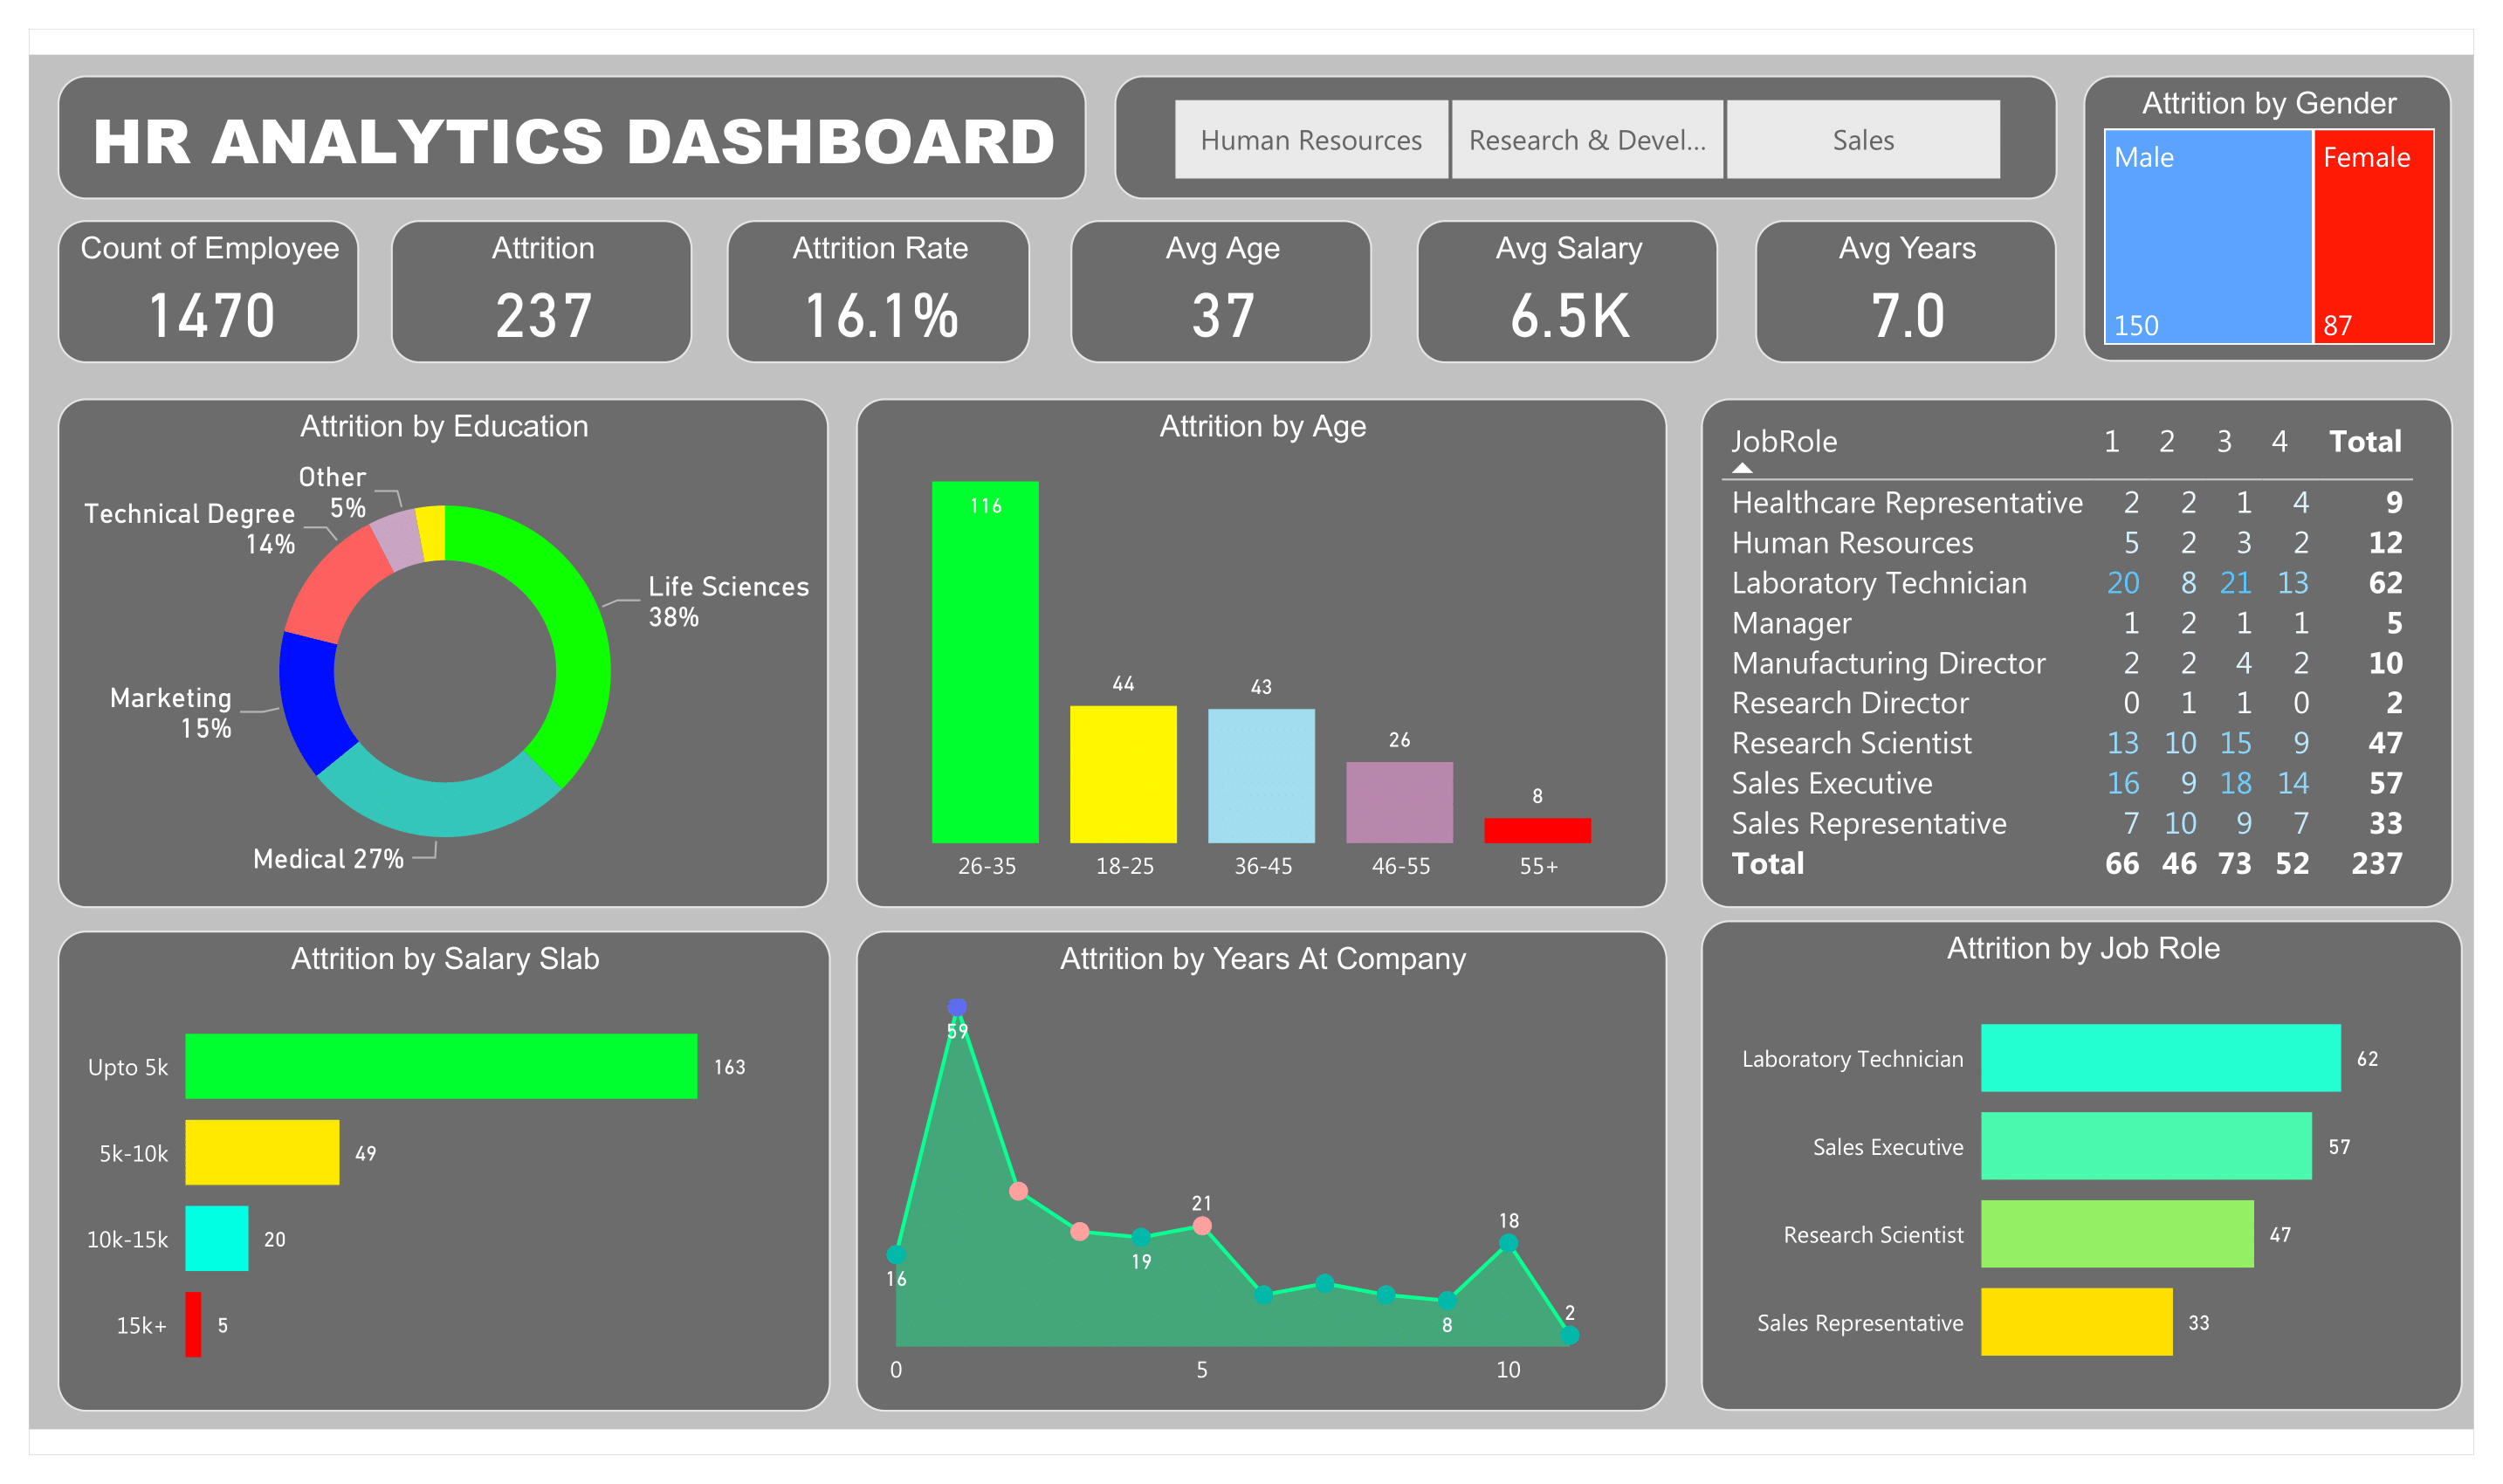

The dashboard page shown, as its layout file describes it:
{"tool":"powerbi","page":{"name":"Page 1","canvas":[1280,720],"ordinal":0},"visuals":[{"type":"card","title":"Count of Employee","fields":{"Values":["CountNonNull(HR_Analytics.EmpID)"]},"box":[15.5,86.1,158.1,74.8],"z":0},{"type":"textbox","box":[15.5,11.3,539.1,64.9],"z":15},{"type":"treemap","title":"Attrition by Gender","fields":{"Values":["Sum(HR_Analytics.AttritionCount)"],"Group":["HR_Analytics.Gender"]},"box":[1075.4,11.3,193.3,149.6],"z":1000},{"type":"slicer","fields":{"Values":["HR_Analytics.Department"]},"box":[568.7,11.3,493.9,64.9],"z":2000},{"type":"pivotTable","fields":{"Rows":["HR_Analytics.JobRole"],"Columns":["HR_Analytics.JobSatisfaction"],"Values":["Sum(HR_Analytics.AttritionCount)"]},"box":[875.6,180,392.5,268],"z":3000},{"type":"donutChart","title":"Attrition by Education","fields":{"Category":["HR_Analytics.EducationField"],"Y":["Sum(HR_Analytics.AttritionCount)"]},"box":[15.5,180.6,403.6,266.7],"z":4000},{"type":"card","title":"Attrition","fields":{"Values":["Sum(HR_Analytics.AttritionCount)"]},"box":[189.1,86.1,158.1,74.8],"z":5000},{"type":"card","title":"Attrition Rate","fields":{"Values":["HR_Analytics.AttritionRate"]},"box":[365.5,86.1,159.5,74.8],"z":6000},{"type":"card","title":"Avg Age","fields":{"Values":["Avg(HR_Analytics.Age)"]},"box":[544.7,86.1,158.1,74.8],"z":7000},{"type":"card","title":"Avg Years","fields":{"Values":["Avg(HR_Analytics.YearsAtCompany)"]},"box":[904.6,86.1,158.1,74.8],"z":8000},{"type":"card","title":"Avg Salary","fields":{"Values":["Avg(HR_Analytics.MonthlyIncome)"]},"box":[726.8,86.1,158.1,74.8],"z":9000},{"type":"columnChart","title":"Attrition by Age","fields":{"Category":["HR_Analytics.AgeGroup"],"Y":["Sum(HR_Analytics.AttritionCount)"]},"box":[433.3,180.6,424.8,266.7],"z":10000},{"type":"barChart","title":"Attrition by Salary Slab","fields":{"Category":["HR_Analytics.SalarySlab"],"Y":["Sum(HR_Analytics.AttritionCount)"]},"box":[14.9,458.8,404.7,251.7],"z":11000},{"type":"barChart","title":"Attrition by Job Role","fields":{"Category":["HR_Analytics.JobRole"],"Y":["Sum(HR_Analytics.AttritionCount)"]},"box":[875,453,399.4,256.8],"z":12000},{"type":"areaChart","title":"Attrition by Years At Company","fields":{"Category":["HR_Analytics.YearsAtCompany"],"Y":["Sum(HR_Analytics.AttritionCount)"]},"box":[433.1,458.8,425,251.7],"z":13000}]}

Visuals, with their boxes in screenshot pixels (x1, y1, x2, y2):
"Count of Employee" card: <bbox>43, 211, 347, 356</bbox>
textbox: <bbox>43, 67, 1083, 193</bbox>
"Attrition by Gender" treemap: <bbox>2087, 67, 2459, 356</bbox>
slicer - HR_Analytics.Department: <bbox>1110, 67, 2062, 193</bbox>
pivotTable - HR_Analytics.JobRole x HR_Analytics.JobSatisfaction: <bbox>1702, 393, 2458, 910</bbox>
"Attrition by Education" donutChart: <bbox>43, 394, 822, 908</bbox>
"Attrition" card: <bbox>378, 211, 683, 356</bbox>
"Attrition Rate" card: <bbox>718, 211, 1026, 356</bbox>
"Avg Age" card: <bbox>1063, 211, 1368, 356</bbox>
"Avg Years" card: <bbox>1757, 211, 2062, 356</bbox>
"Avg Salary" card: <bbox>1414, 211, 1720, 356</bbox>
"Attrition by Age" columnChart: <bbox>849, 394, 1668, 908</bbox>
"Attrition by Salary Slab" barChart: <bbox>42, 931, 822, 1416</bbox>
"Attrition by Job Role" barChart: <bbox>1701, 919, 2471, 1414</bbox>
"Attrition by Years At Company" areaChart: <bbox>849, 931, 1668, 1416</bbox>
